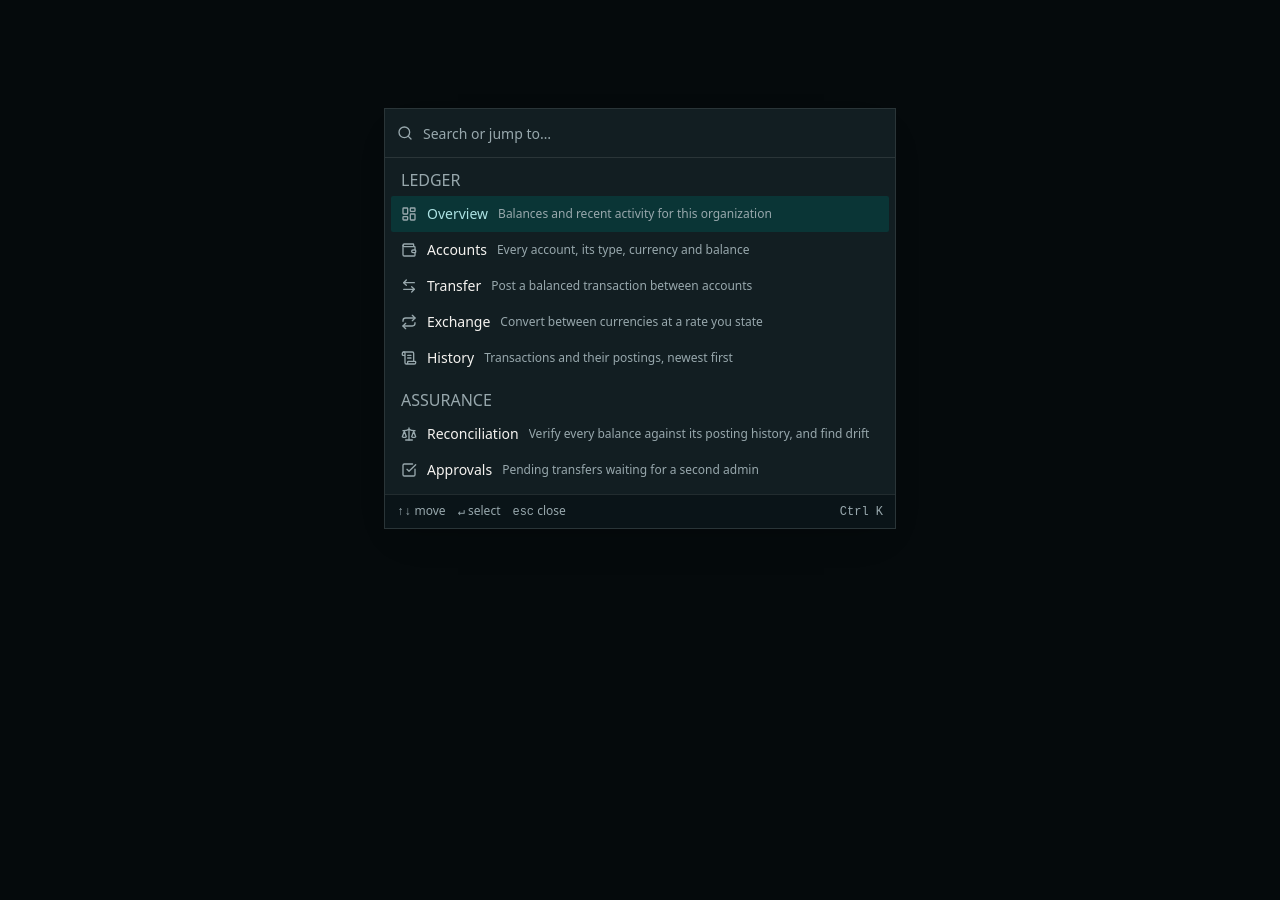
Test: CommandPalette › says so when nothing matches, instead of showing an empty box
Type "trial balance" into the dropdown named "Search commands" at point(653, 133), box [423,109,883,157]
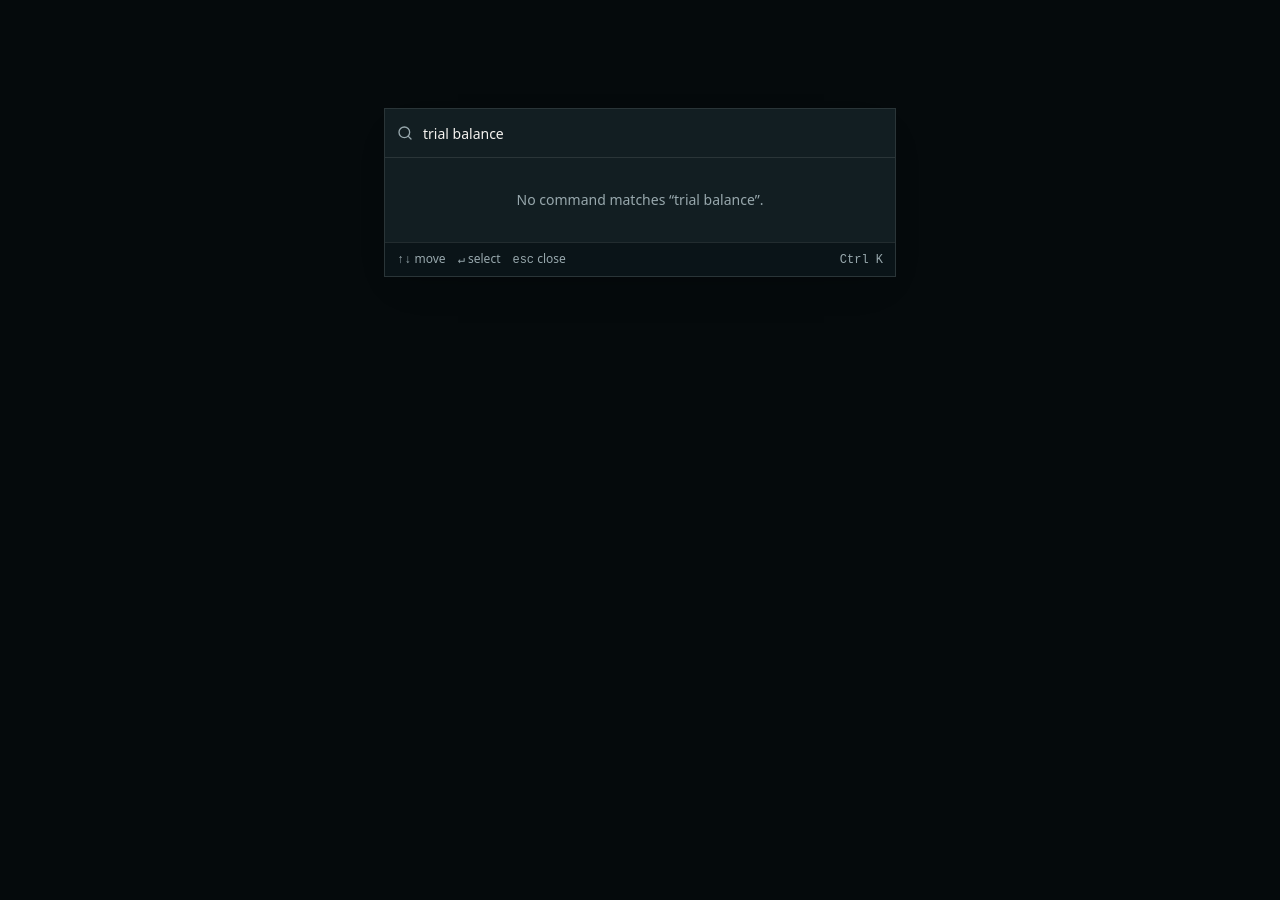
Result: no options are shown
Result: the text "No command matches “trial balance”." is shown at [516,190,763,209]
